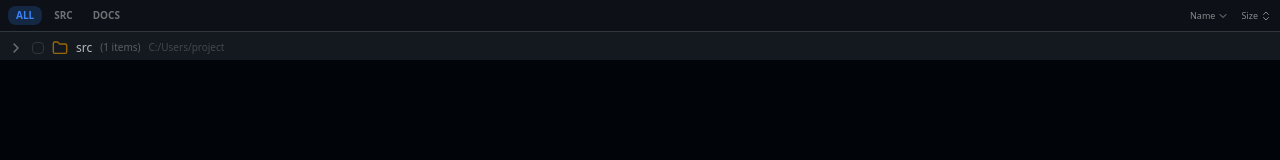
Test case: FileTree Path-Based Behavior › Paths as unique identifiers › should handle Windows-style paths correctly
The image size is (1280, 160).
Expected: the text "src" is shown, [76,38,92,56]
Click the button with test id "expand-icon" at (16, 48), box [6,38,26,58]
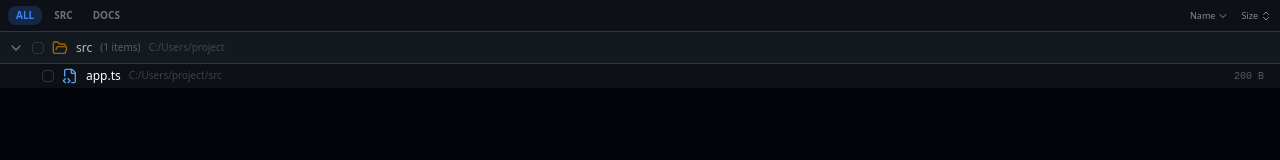
Now the text "app.ts" is shown, box [86,66,121,84]
